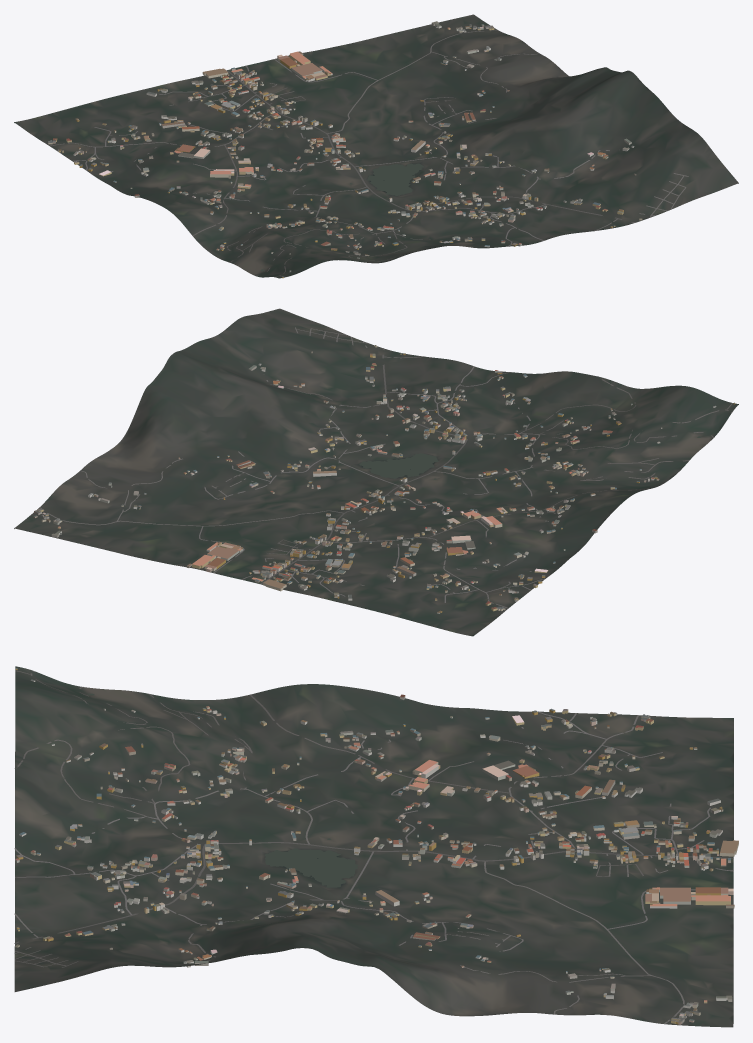
The picture shows the model from 3 angles, top to bottom: view 1: azimuth 30°, elevation 25°; view 2: azimuth 150°, elevation 25°; view 3: azimuth 270°, elevation 25°; orthographic projection. The views are drawn at different scales.
Visible parts, largest first — view 1: ground, buildings, roads, water; view 2: ground, buildings, roads, water; view 3: ground, buildings, roads, water.
Part boxes in pixels (x1,y1,x2,y2): ground: (14, 14, 738, 278); buildings: (48, 21, 642, 278); roads: (49, 30, 688, 277); water: (260, 163, 424, 271); ground: (14, 308, 738, 636); buildings: (33, 345, 735, 613); roads: (39, 327, 732, 608); water: (359, 436, 701, 479); ground: (14, 666, 733, 1027); buildings: (15, 668, 738, 1024); roads: (14, 670, 733, 1024); water: (87, 693, 358, 887).
Bounding box in the file's own units: 1408 × 173 × 1414.
